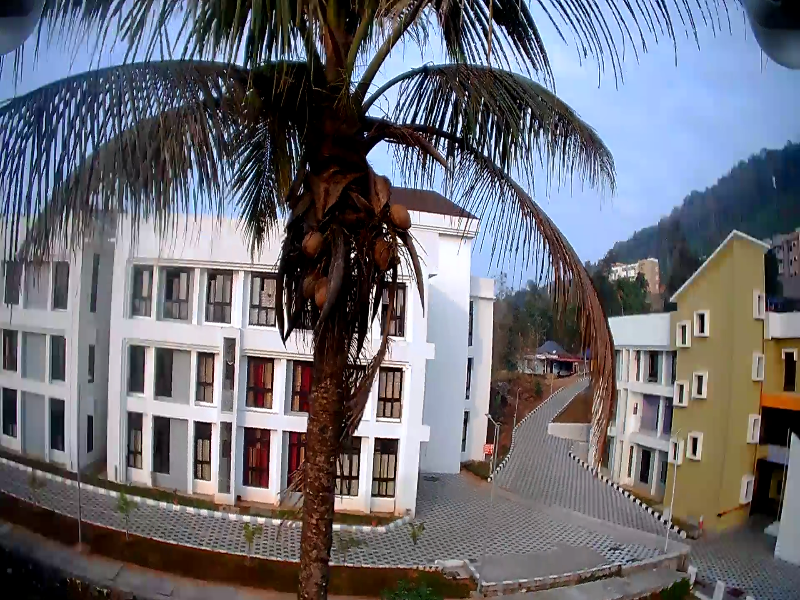coconut: (386, 200, 408, 234), (299, 227, 318, 253), (317, 271, 326, 307), (371, 237, 383, 263), (303, 274, 318, 291)
